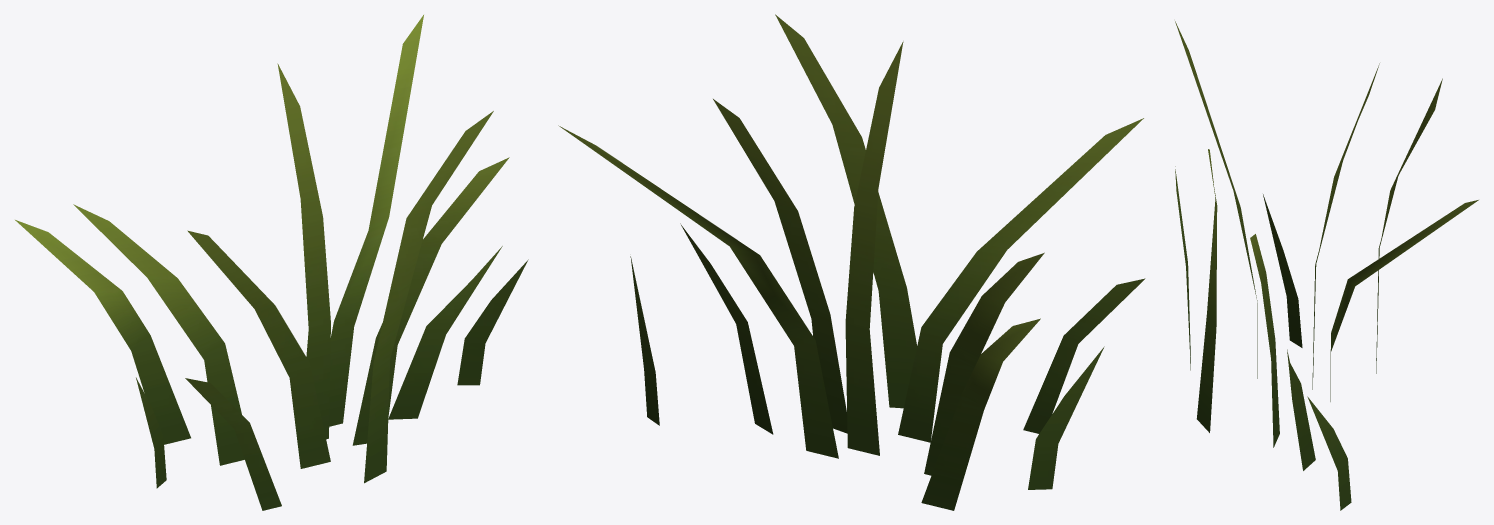
The model's file is grass_2.glb.
The picture shows the model from 3 angles, left to right: view 1: azimuth 30°, elevation 25°; view 2: azimuth 150°, elevation 25°; view 3: azimuth 270°, elevation 25°; orthographic projection. The views are drawn at different scales.
Parts seen in each view (by area): view 1: Grass_Small; view 2: Grass_Small; view 3: Grass_Small.
Part boxes in pixels (x1,y1,x2,y2): Grass_Small: (15, 15, 528, 510); Grass_Small: (558, 14, 1145, 510); Grass_Small: (1175, 21, 1478, 510).
Size of the model in its own units: 0.47 by 0.3941 by 0.2775.
1 material, 1 textured.
